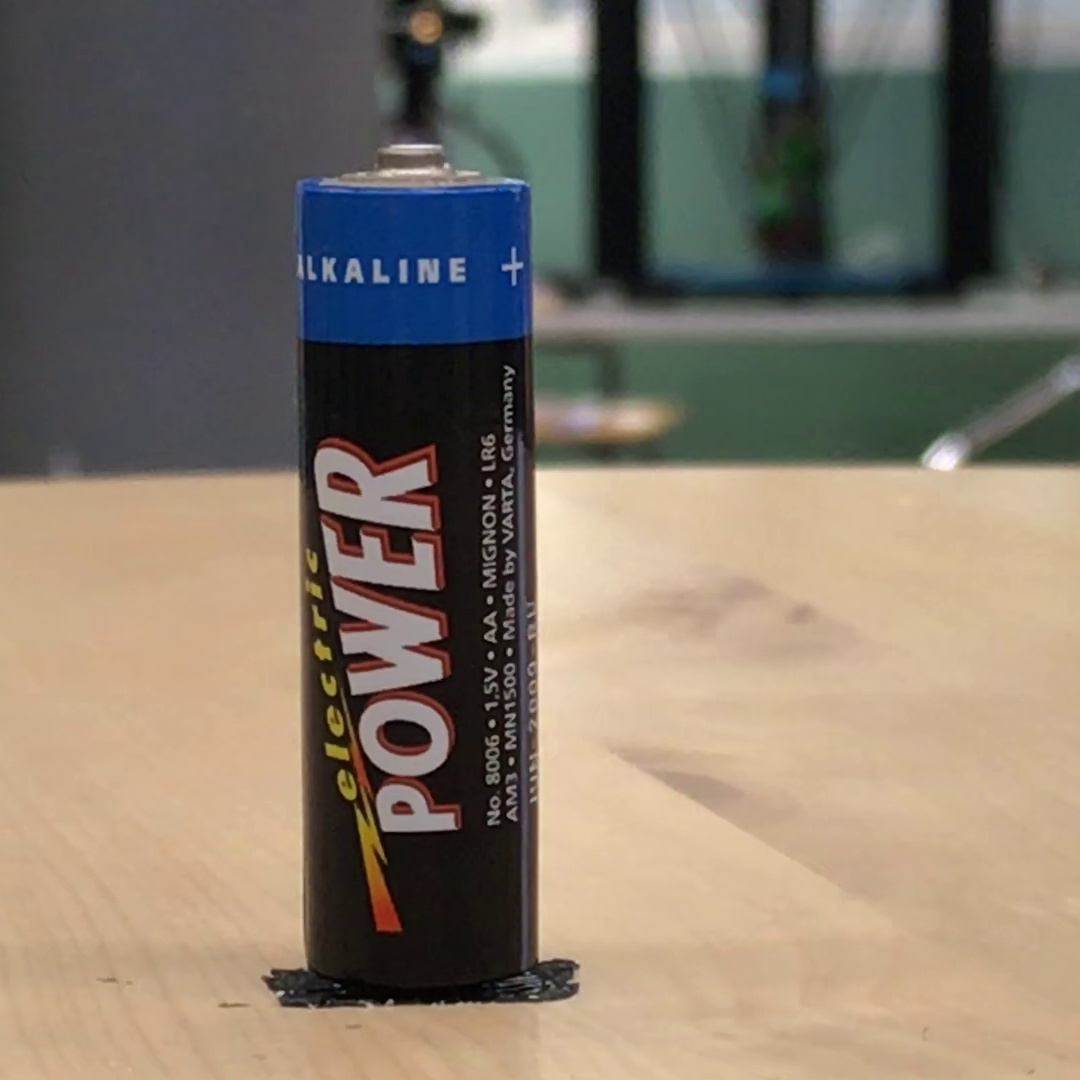keyword: (475, 658, 507, 720), (473, 425, 505, 480)
